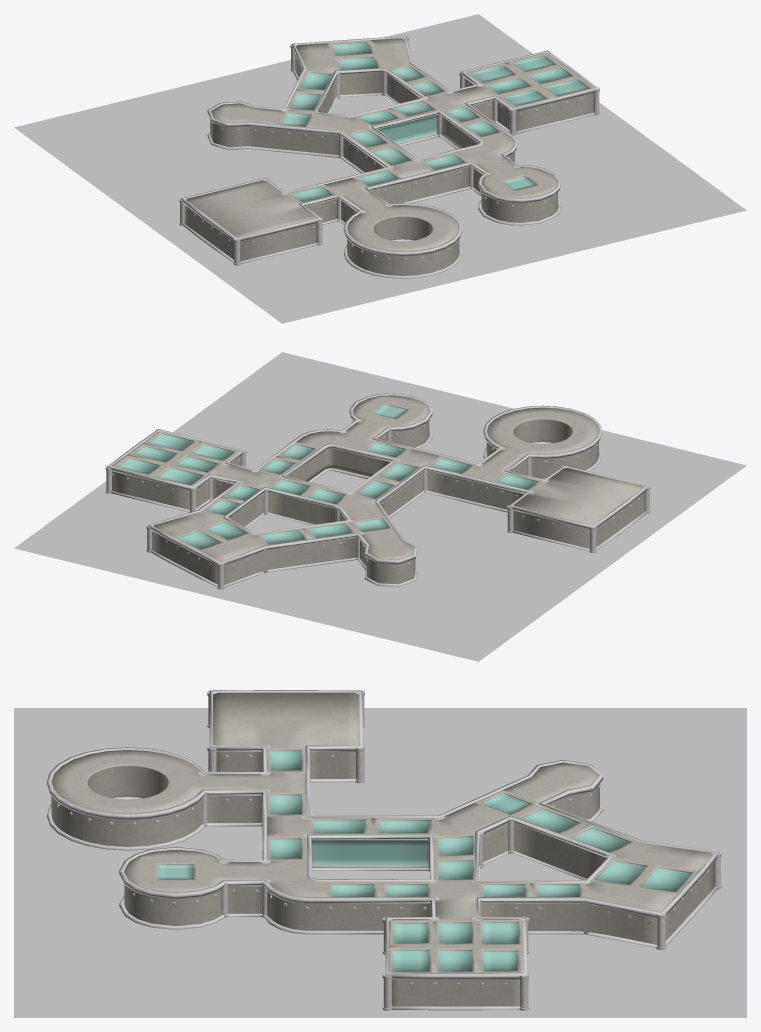
File: Path.obj
3 renders of one model, top to bottom at view 1: azimuth 30°, elevation 25°; view 2: azimuth 150°, elevation 25°; view 3: azimuth 270°, elevation 25°, orthographic. The views are drawn at different scales.
Visible parts, largest first — view 1: Plane, BézierCircle, BézierCircle.001, BézierCircle.002, BézierCircle.003; view 2: Plane, BézierCircle, BézierCircle.001, BézierCircle.002, BézierCircle.003; view 3: Plane, BézierCircle, BézierCircle.001, BézierCircle.002, BézierCircle.003, Cube.
Boxes of the visible parts, x1,y1,x2,y2 form: Plane: (14, 14, 746, 323); BézierCircle: (184, 38, 593, 275); BézierCircle.001: (181, 36, 598, 278); BézierCircle.002: (180, 41, 599, 263); BézierCircle.003: (179, 36, 599, 265); Plane: (14, 352, 746, 661); BézierCircle: (112, 395, 645, 584); BézierCircle.001: (107, 393, 649, 587); BézierCircle.002: (106, 431, 649, 587); BézierCircle.003: (105, 419, 650, 589); Plane: (14, 708, 746, 1017); BézierCircle: (51, 692, 714, 1006); BézierCircle.001: (46, 690, 719, 1010); BézierCircle.002: (201, 696, 720, 1008); BézierCircle.003: (198, 690, 721, 1010); Cube: (51, 755, 709, 985).
Bounding box in the file's own units: 216 × 12.57 × 216.
